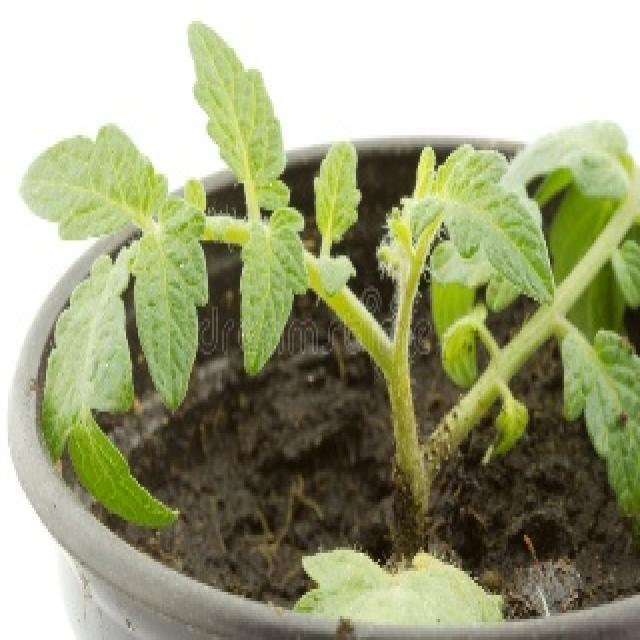plant: (22, 24, 640, 551)
